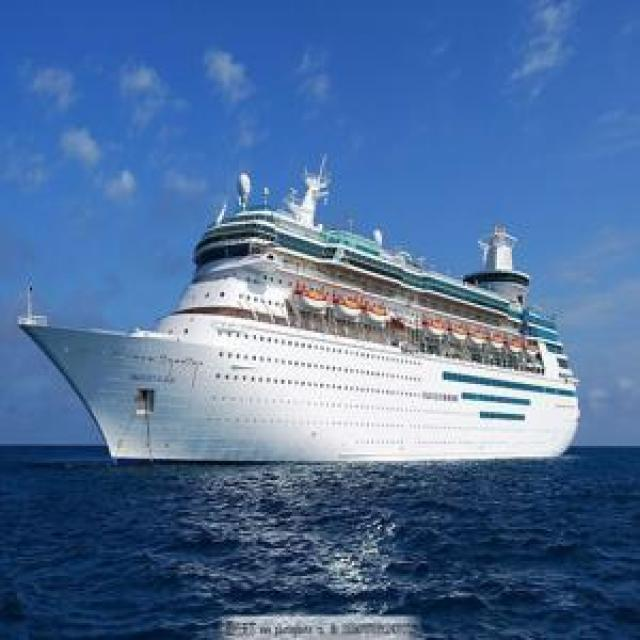passenger ship: (15, 170, 588, 458)
